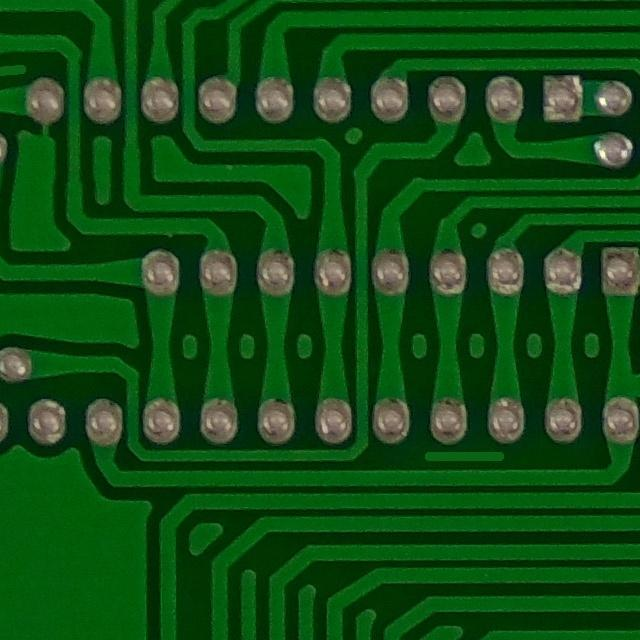spurious_copper: (417, 435, 511, 475), (0, 56, 34, 91)
